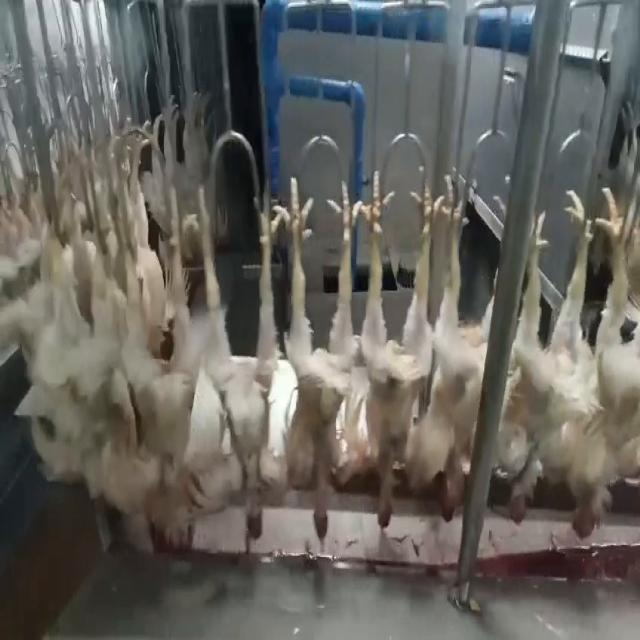chicken: (186, 171, 281, 548), (274, 170, 362, 550), (352, 172, 441, 534), (499, 191, 586, 527), (573, 188, 639, 555), (119, 182, 184, 541), (421, 172, 484, 525)
